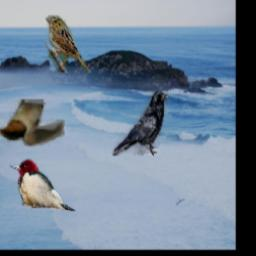Crow: (113, 90, 169, 156)
Sparrow: (47, 15, 92, 73)
Swallow: (0, 99, 65, 146)
Woodpecker: (9, 160, 76, 212)
